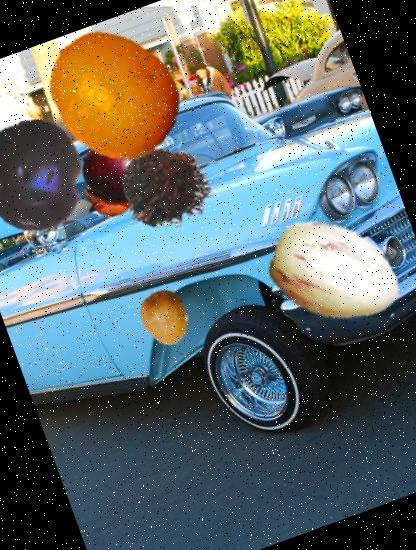Kiwi: (127, 280, 200, 354)
Lemon: (23, 6, 200, 184)
Mangostan: (62, 122, 170, 229)
Passion: (0, 103, 106, 248)
Pepino: (247, 183, 416, 360)
Rambutan: (104, 124, 233, 254)
